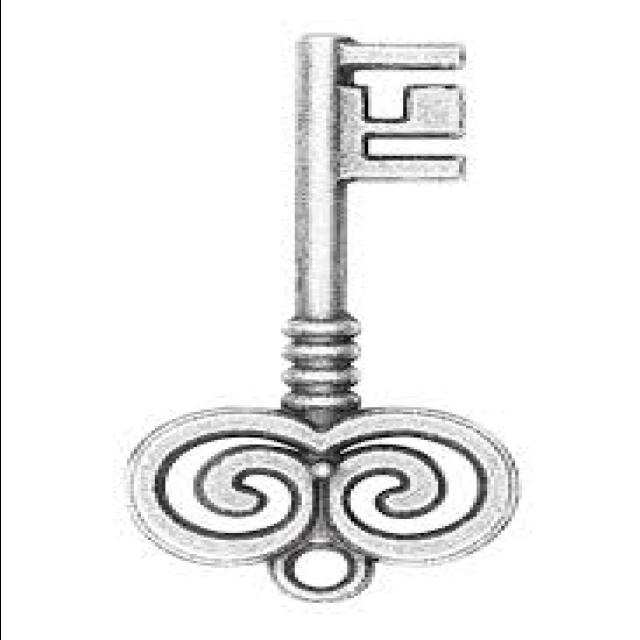key: (120, 10, 575, 618)
